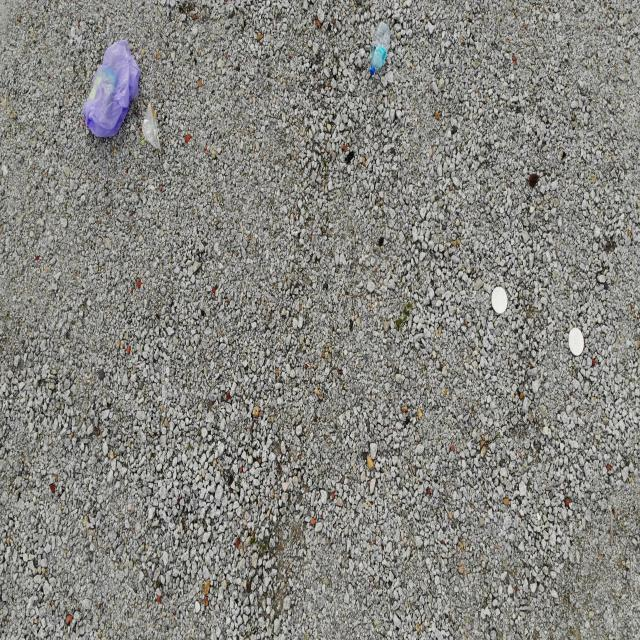rubbish: (84, 38, 141, 137), (369, 20, 389, 75), (139, 103, 160, 150)
